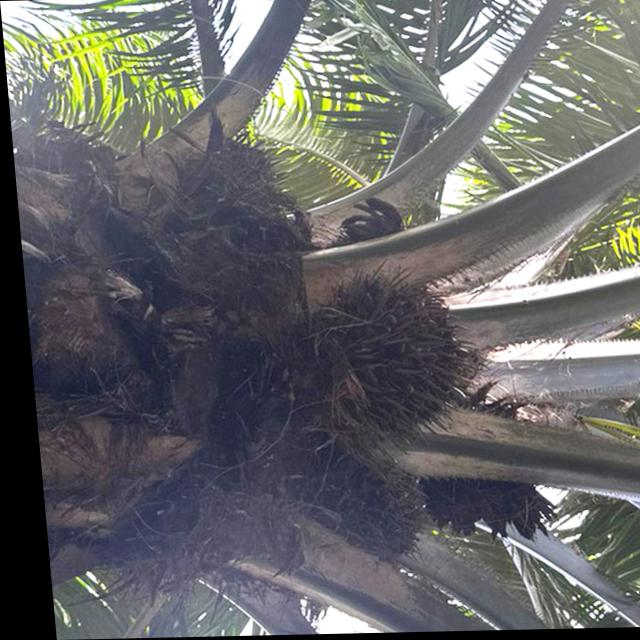ripe: (285, 251, 489, 476)
